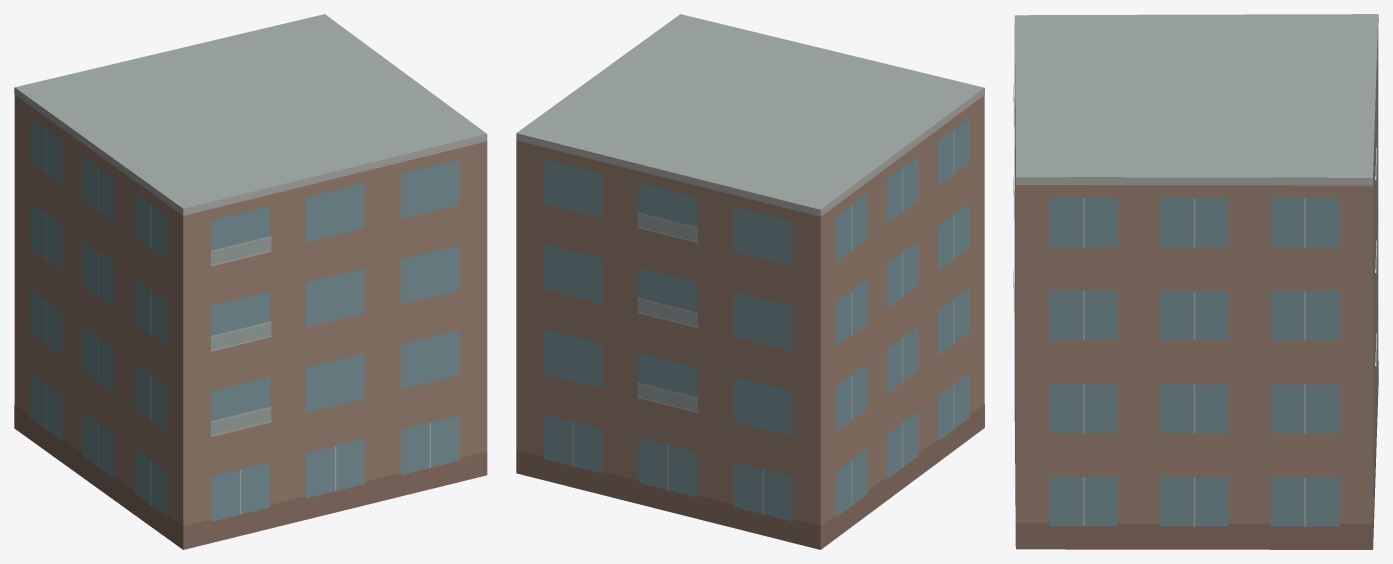
The model's file is survey-upis-32918587.glb.
The picture shows the model from 3 angles, left to right: view 1: azimuth 30°, elevation 25°; view 2: azimuth 150°, elevation 25°; view 3: azimuth 270°, elevation 25°; orthographic projection. The views are drawn at different scales.
Visible parts, largest first — view 1: survey-upis-32918587.tmp; view 2: survey-upis-32918587.tmp; view 3: survey-upis-32918587.tmp.
Boxes of the visible parts, x1,y1,x2,y2 form: survey-upis-32918587.tmp: [14, 14, 487, 549]; survey-upis-32918587.tmp: [516, 14, 984, 549]; survey-upis-32918587.tmp: [1013, 14, 1378, 549].
Bounding box in the file's own units: 11.06 × 11.7 × 10.41.
